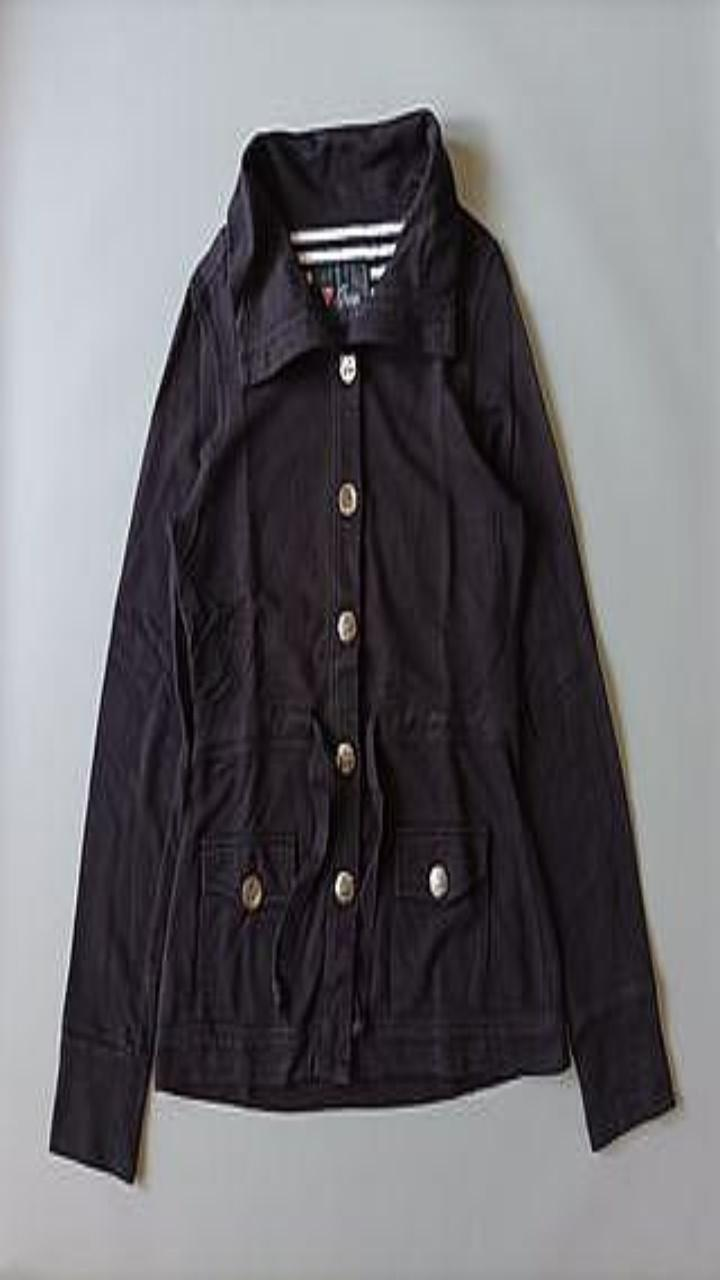Sports_Jacket: (50, 106, 674, 1180)
